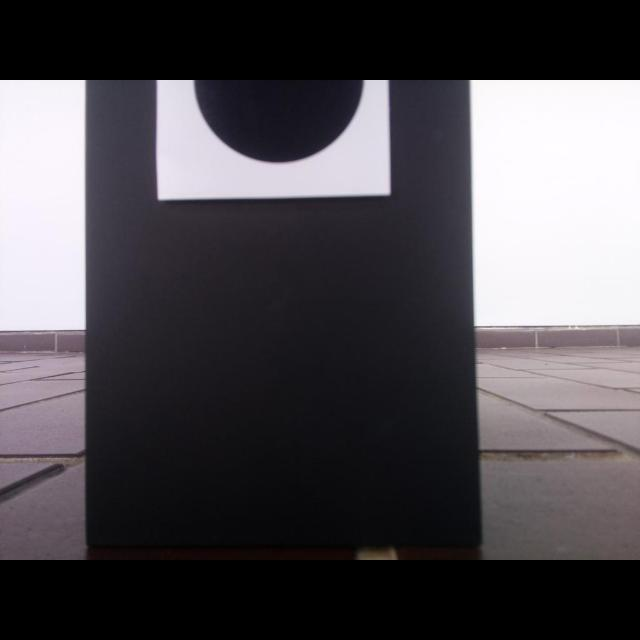CIRCLE: (188, 80, 375, 171)
